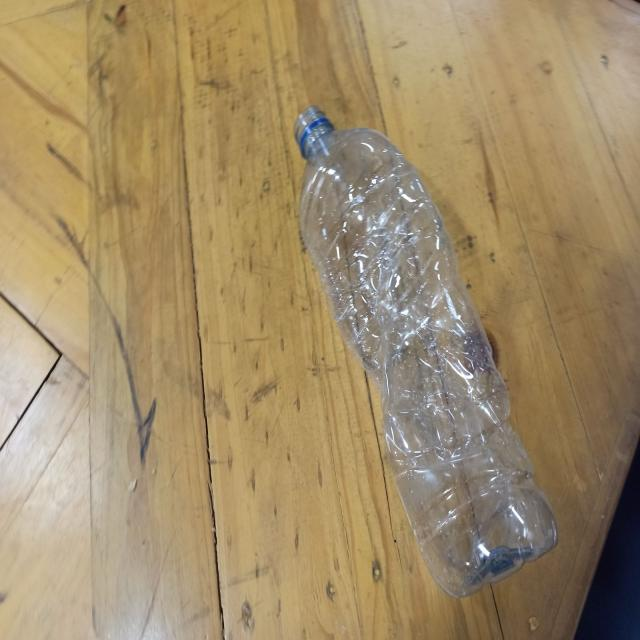BotolPlastik: (292, 103, 558, 598)
